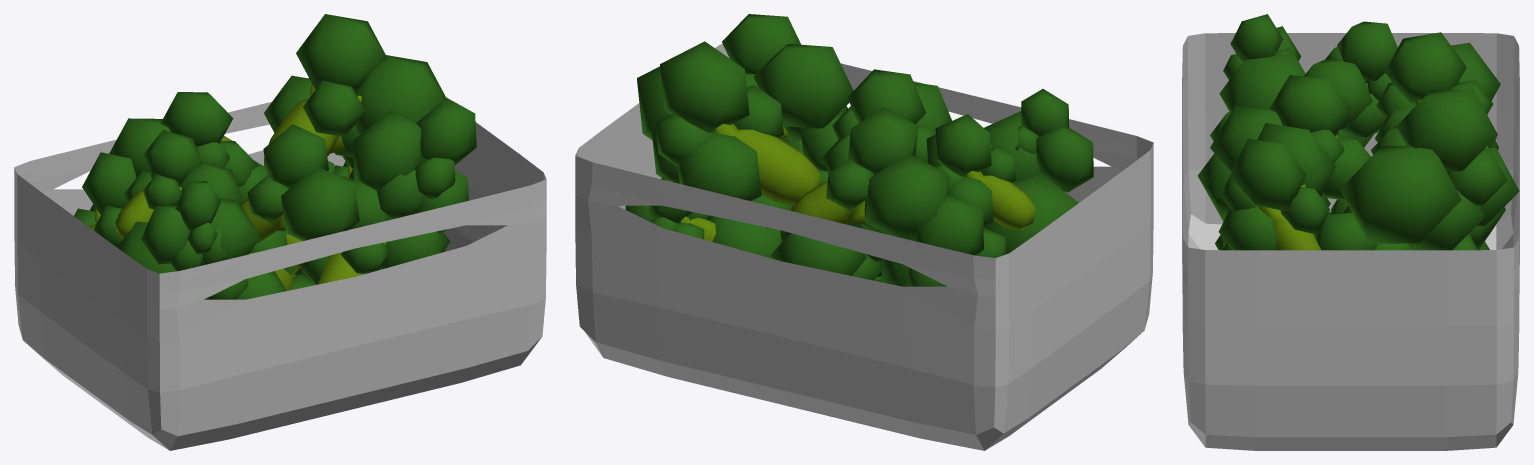
The model's file is box of broccoli.fbx.
3 renders of one model, left to right at view 1: azimuth 30°, elevation 25°; view 2: azimuth 150°, elevation 25°; view 3: azimuth 270°, elevation 25°, orthographic. The views are drawn at different scales.
Visible parts, largest first — view 1: Cube, Icosphere.017, Icosphere.018, Icosphere.016, Icosphere.015, Icosphere.013, Icosphere.014, Icosphere.009, Icosphere.011, Icosphere.012, Icosphere.010; view 2: Cube, Icosphere.017, Icosphere.015, Icosphere.018, Icosphere.013, Icosphere.016, Icosphere.014, Icosphere.012, Icosphere.011, Icosphere.010, Icosphere.005, Icosphere.008 (+1 smaller); view 3: Cube, Icosphere.017, Icosphere.018, Icosphere.016, Icosphere.015, Icosphere.013, Icosphere.011, Icosphere.014, Icosphere.007, Icosphere.010.
Boxes of the visible parts, x1=… form: Cube: x1=14, y1=102, x2=546, y2=450; Icosphere.017: x1=264, y1=14, x2=446, y2=166; Icosphere.018: x1=353, y1=97, x2=476, y2=234; Icosphere.016: x1=241, y1=124, x2=359, y2=243; Icosphere.015: x1=109, y1=92, x2=258, y2=186; Icosphere.013: x1=115, y1=130, x2=242, y2=238; Icosphere.014: x1=141, y1=181, x2=225, y2=271; Icosphere.009: x1=299, y1=180, x2=450, y2=284; Icosphere.011: x1=118, y1=198, x2=293, y2=299; Icosphere.012: x1=74, y1=152, x2=136, y2=247; Icosphere.010: x1=238, y1=160, x2=301, y2=268; Cube: x1=575, y1=44, x2=1153, y2=450; Icosphere.017: x1=637, y1=41, x2=820, y2=217; Icosphere.015: x1=791, y1=107, x2=949, y2=240; Icosphere.018: x1=722, y1=14, x2=853, y2=140; Icosphere.013: x1=926, y1=114, x2=1035, y2=230; Icosphere.016: x1=822, y1=69, x2=951, y2=172; Icosphere.014: x1=1015, y1=89, x2=1093, y2=192; Icosphere.012: x1=881, y1=192, x2=1005, y2=286; Icosphere.011: x1=983, y1=111, x2=1078, y2=254; Icosphere.010: x1=771, y1=222, x2=881, y2=280; Icosphere.005: x1=709, y1=215, x2=781, y2=258; Icosphere.008: x1=625, y1=177, x2=715, y2=241; Cube: x1=1182, y1=33, x2=1519, y2=450; Icosphere.017: x1=1340, y1=89, x2=1519, y2=250; Icosphere.018: x1=1218, y1=123, x2=1335, y2=250; Icosphere.016: x1=1210, y1=75, x2=1370, y2=200; Icosphere.015: x1=1374, y1=32, x2=1500, y2=147; Icosphere.013: x1=1303, y1=21, x2=1397, y2=137; Icosphere.011: x1=1197, y1=53, x2=1373, y2=221; Icosphere.014: x1=1223, y1=14, x2=1301, y2=80; Icosphere.007: x1=1314, y1=212, x2=1409, y2=250; Icosphere.010: x1=1343, y1=205, x2=1505, y2=250.
Bounding box in the file's own units: 305 × 211 × 200.
